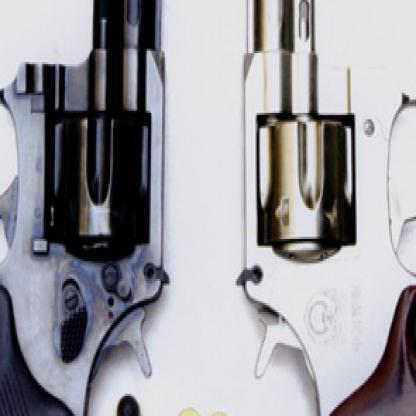gun: (227, 0, 415, 414), (0, 0, 179, 414)
